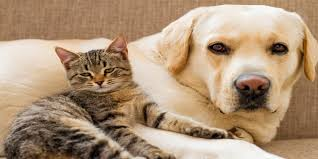cat: (54, 32, 135, 96)
